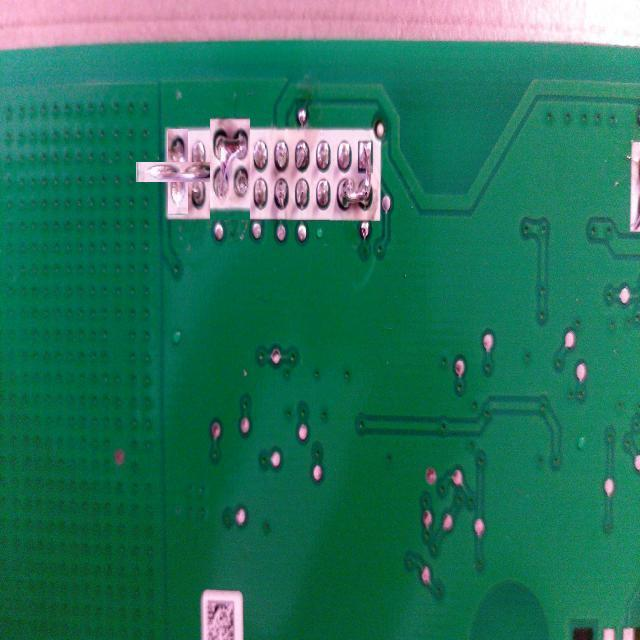Short_circuit: (210, 118, 250, 222), (336, 132, 378, 218), (152, 146, 204, 199)
